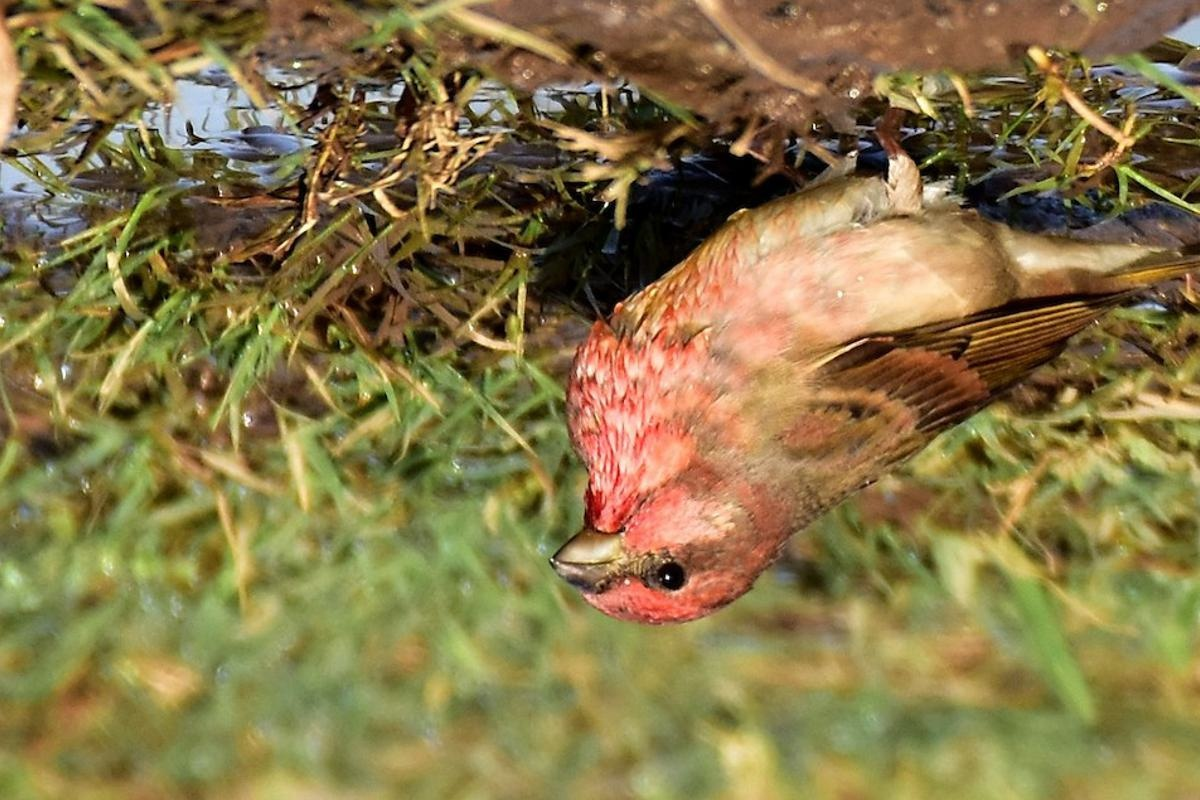rosefinch: (530, 162, 1177, 645)
